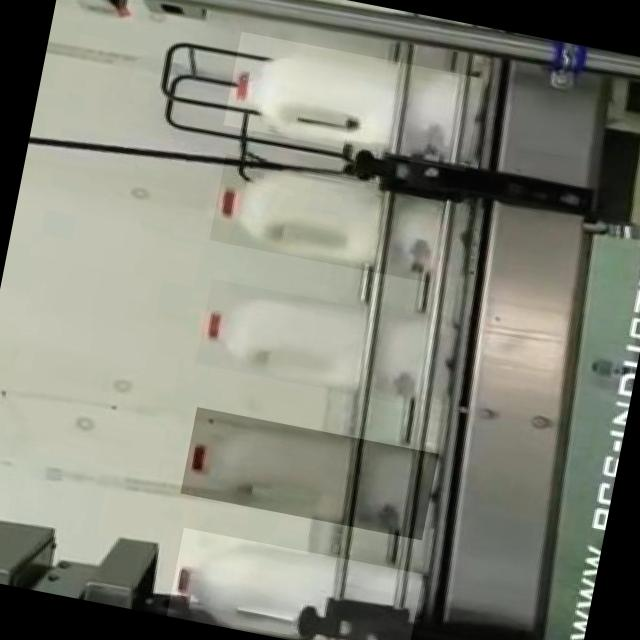red: (216, 26, 498, 182), (180, 402, 448, 541), (186, 276, 459, 412), (204, 152, 476, 288), (166, 528, 429, 640)
